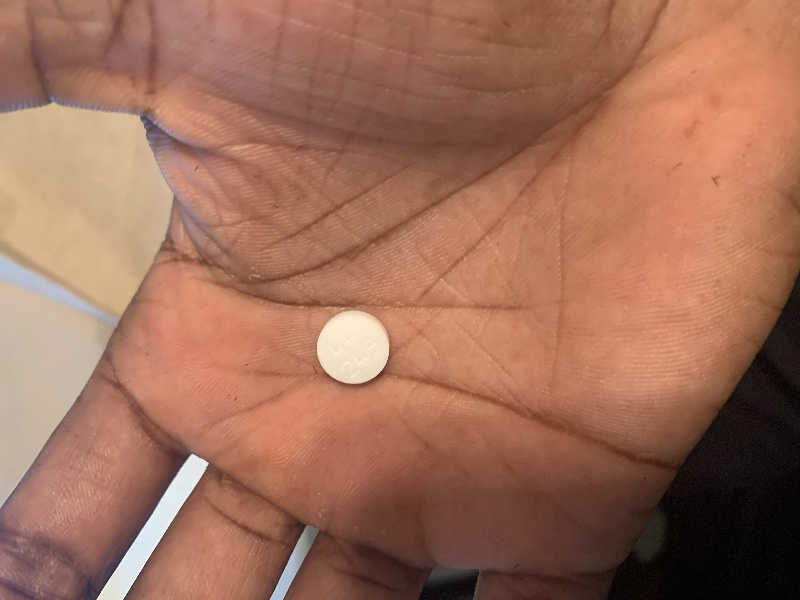Aspirin: (313, 309, 396, 388)
